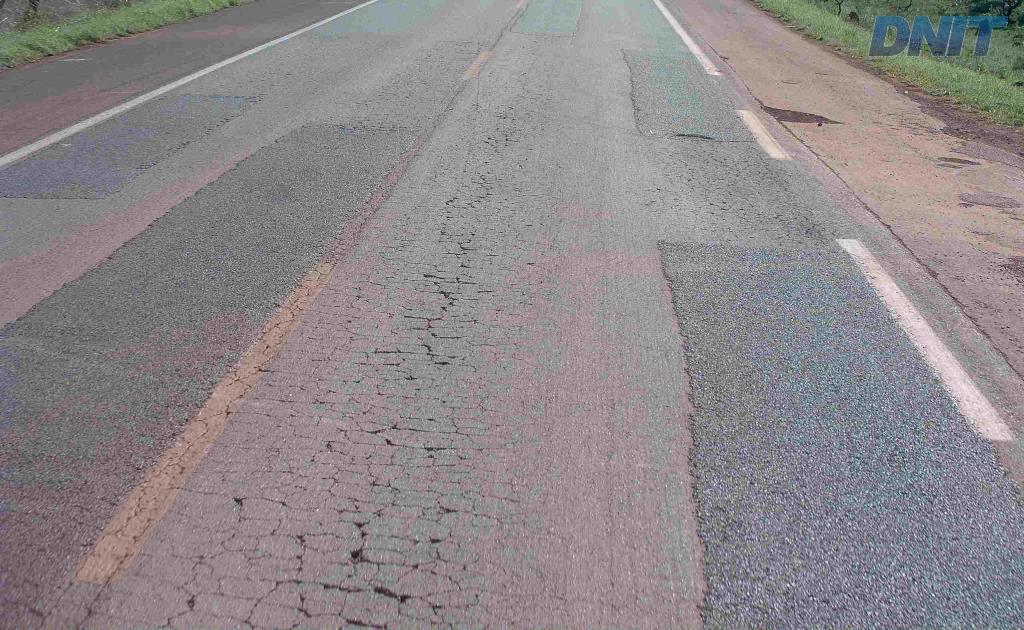crack: (337, 520, 385, 576)
pothole: (662, 126, 722, 144)
